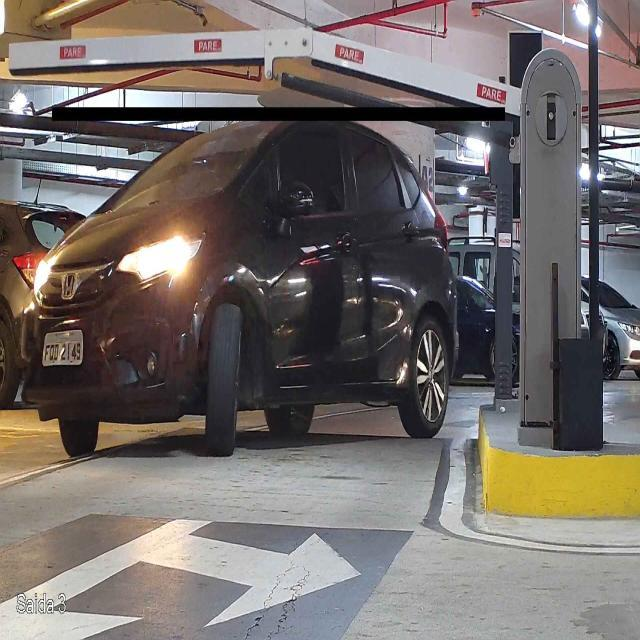old_plate: (41, 328, 85, 368)
